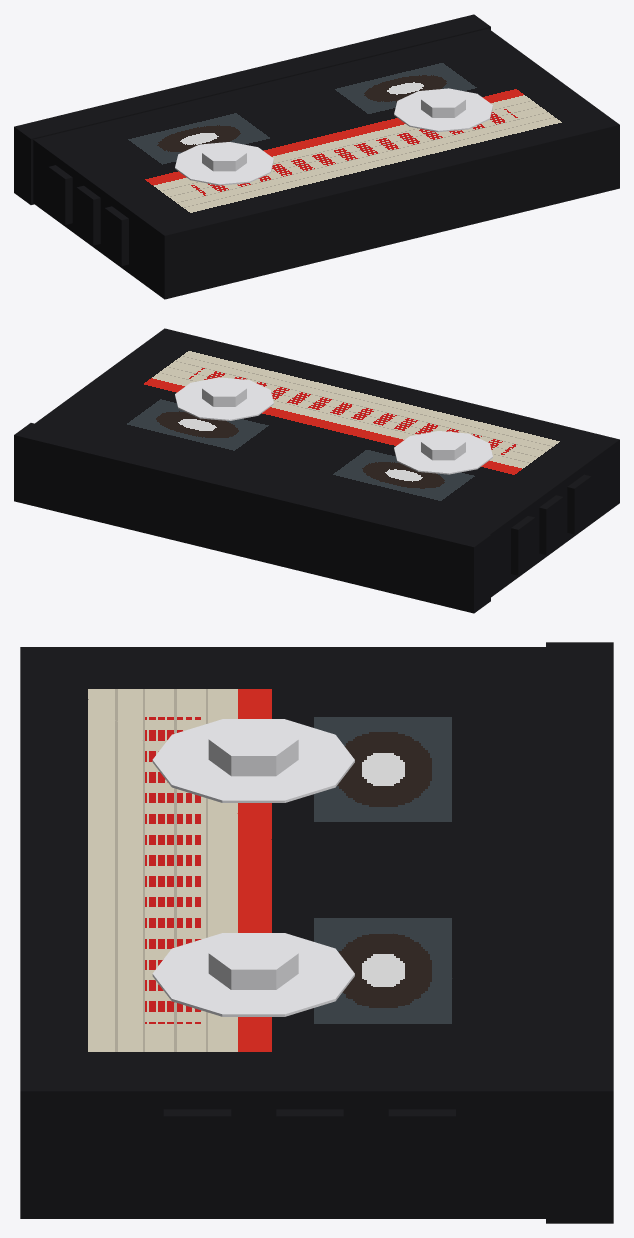
The model's file is vhs_tape.glb.
3 views of the same model, one above another, from view 1: azimuth 30°, elevation 25°; view 2: azimuth 150°, elevation 25°; view 3: azimuth 270°, elevation 25° (orthographic). The views are drawn at different scales.
Visible parts, largest first — view 1: vhs_tape; view 2: vhs_tape; view 3: vhs_tape.
Boxes of the visible parts, x1,y1,x2,y2 form: vhs_tape: (14, 14, 619, 299); vhs_tape: (14, 328, 619, 613); vhs_tape: (20, 642, 613, 1223).
Size of the model in its own units: 0.193 by 0.03 by 0.1055.
2 materials, 1 textured.
